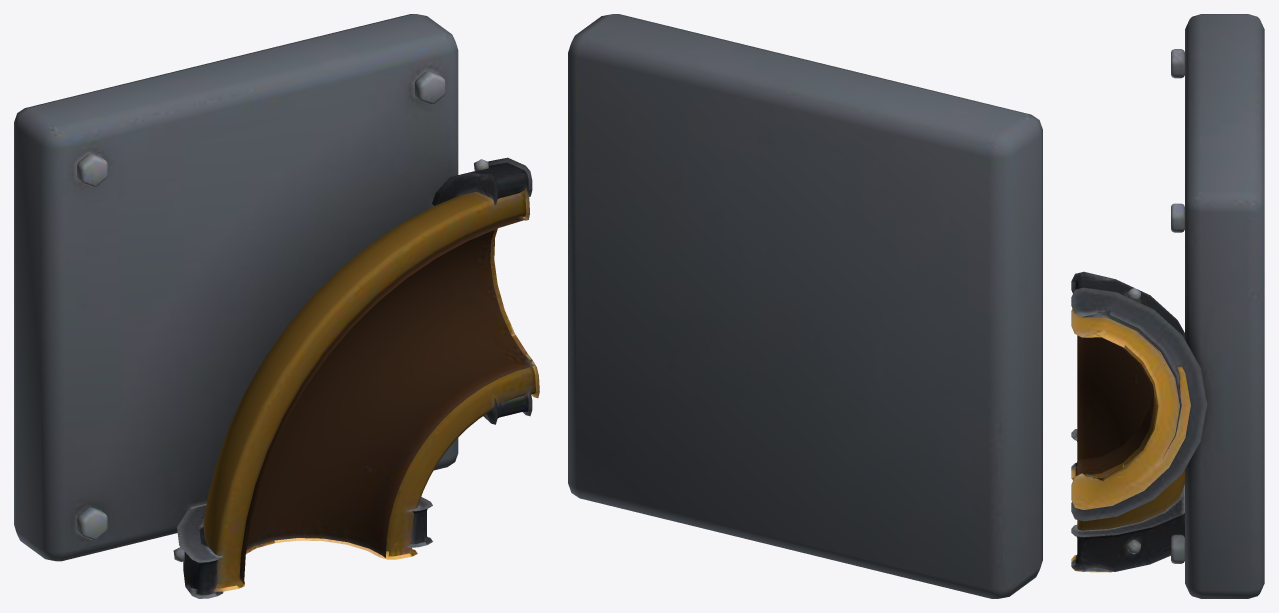
Rendered from pipe_corner.glb.
The picture shows the model from 3 angles, left to right: view 1: azimuth 30°, elevation 25°; view 2: azimuth 150°, elevation 25°; view 3: azimuth 270°, elevation 25°; orthographic projection. The views are drawn at different scales.
Visible parts, largest first — view 1: pipe_corner; view 2: pipe_corner; view 3: pipe_corner.
Boxes of the visible parts, x1,y1,x2,y2 form: pipe_corner: (14, 14, 539, 598); pipe_corner: (568, 14, 1042, 598); pipe_corner: (1071, 14, 1264, 598).
Size of the model in its own units: 2 by 2.01 by 0.825.
1 material, 1 textured.
